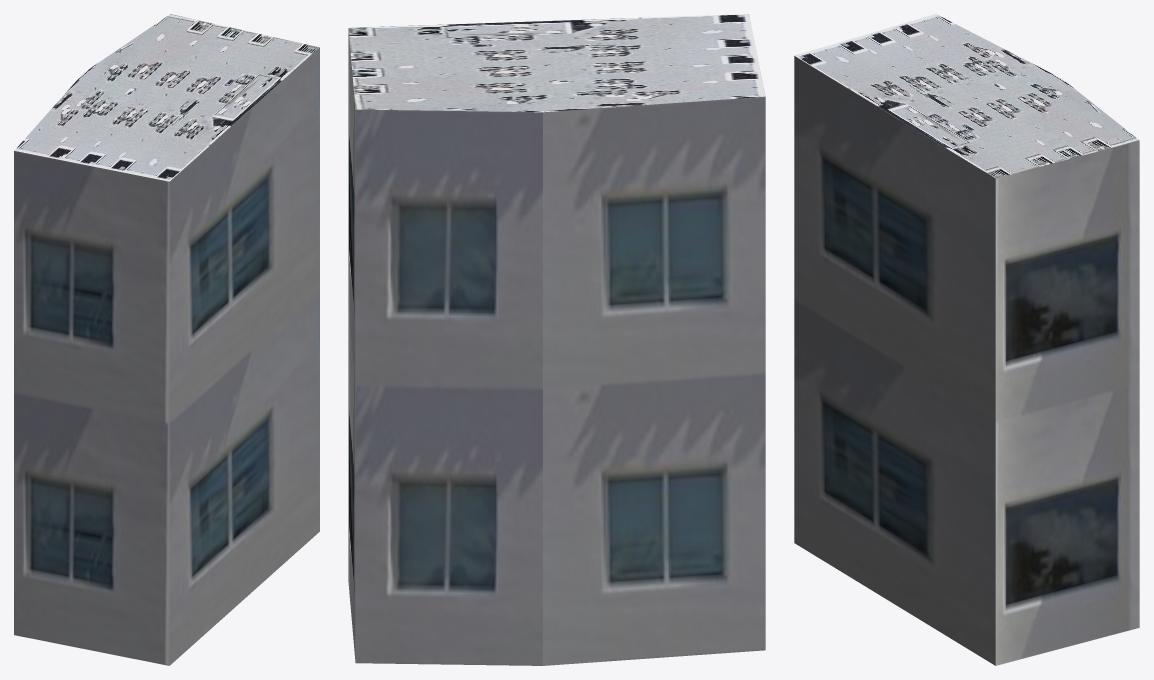
File: ResTex__2516.fbx
The picture shows the model from 3 angles, left to right: view 1: azimuth 30°, elevation 25°; view 2: azimuth 150°, elevation 25°; view 3: azimuth 270°, elevation 25°; orthographic projection. The views are drawn at different scales.
Parts seen in each view (by area): view 1: CityEngineMaterial_10_m, CityEngineMaterial_8_m; view 2: CityEngineMaterial_10_m, CityEngineMaterial_8_m; view 3: CityEngineMaterial_10_m, CityEngineMaterial_8_m.
Part boxes in pixels (bbox=[...]): CityEngineMaterial_10_m: bbox=[14, 47, 319, 665]; CityEngineMaterial_8_m: bbox=[14, 14, 319, 181]; CityEngineMaterial_10_m: bbox=[348, 29, 765, 665]; CityEngineMaterial_8_m: bbox=[348, 14, 765, 112]; CityEngineMaterial_10_m: bbox=[794, 56, 1139, 665]; CityEngineMaterial_8_m: bbox=[794, 14, 1139, 178].
Size of the model in its own units: 4.35 by 6 by 3.86.
2 materials, 2 textured.
